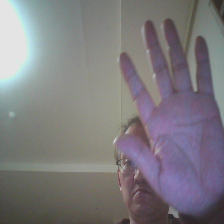hand: (112, 10, 222, 223)
